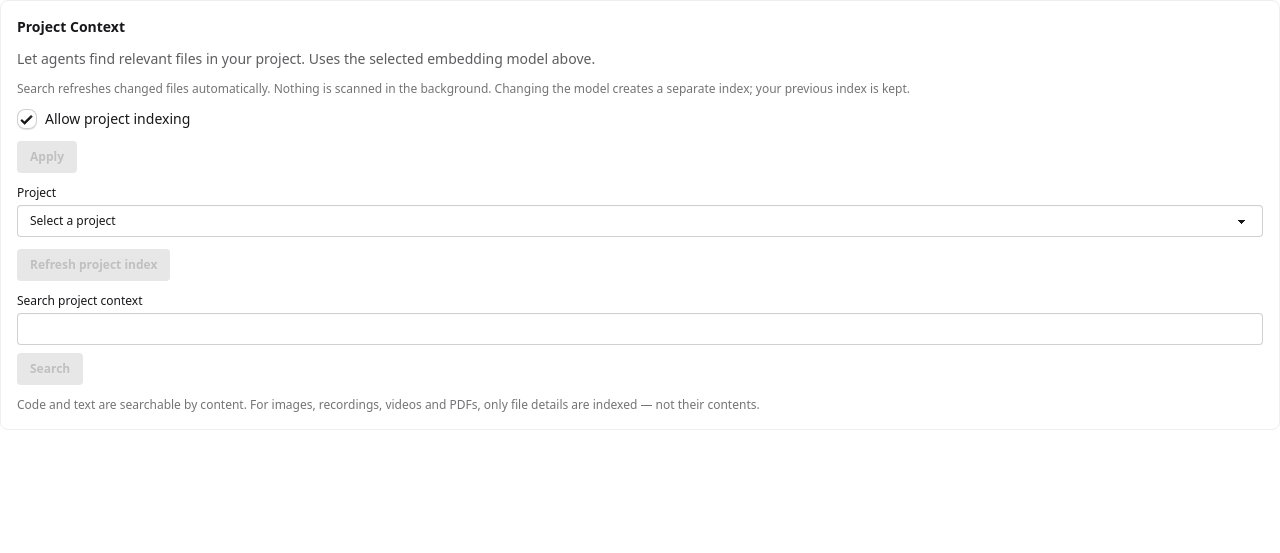
it: ProjectContextCard › allows the first search and displays the index created by backend auto-refresh
This screenshot has width=1280, height=553.
Expected: the checkbox labelled "Allow project indexing" is enabled, [17,109,37,129]
Select "HomeSite" in the dropdown labelled "Project" at (640, 221), box [17,205,1263,237]
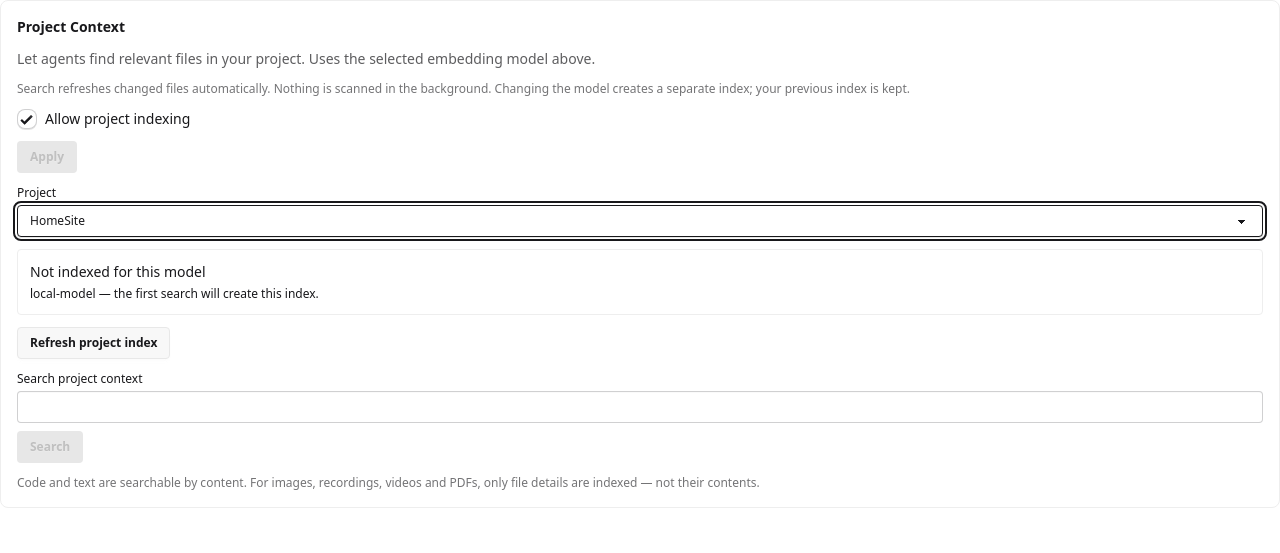
Now the text "Not indexed for this model" is shown, box [30,262,206,281]
Type "contact" into the field labelled "Search project context" at (640, 407), box [17,391,1263,423]
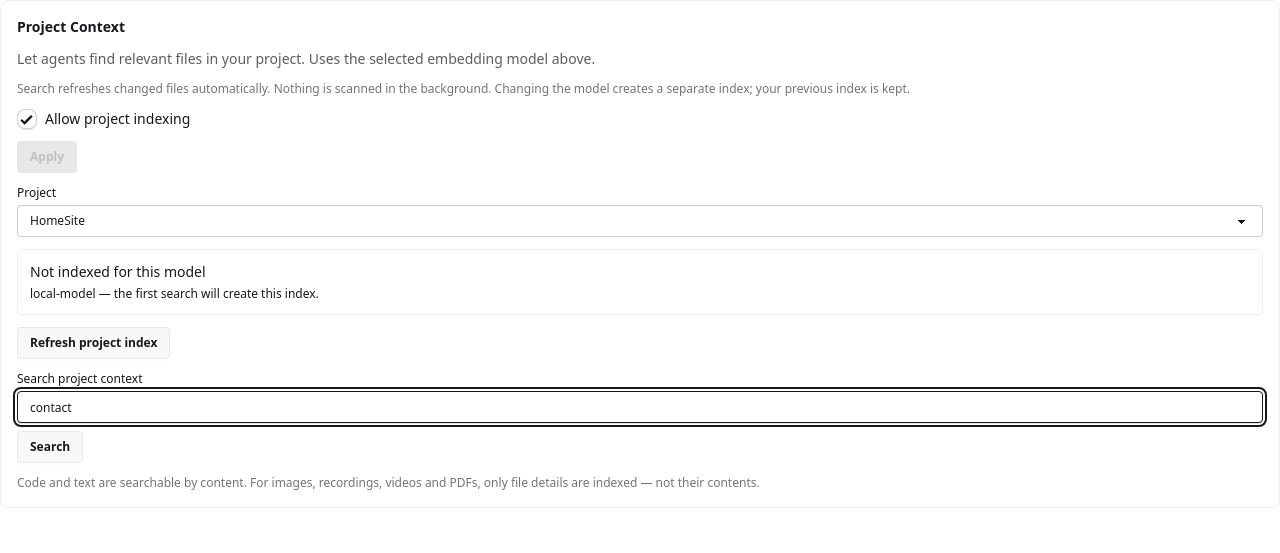
Now the button "Search" is enabled
Click the button "Search" at (50, 447), box [17,431,83,463]
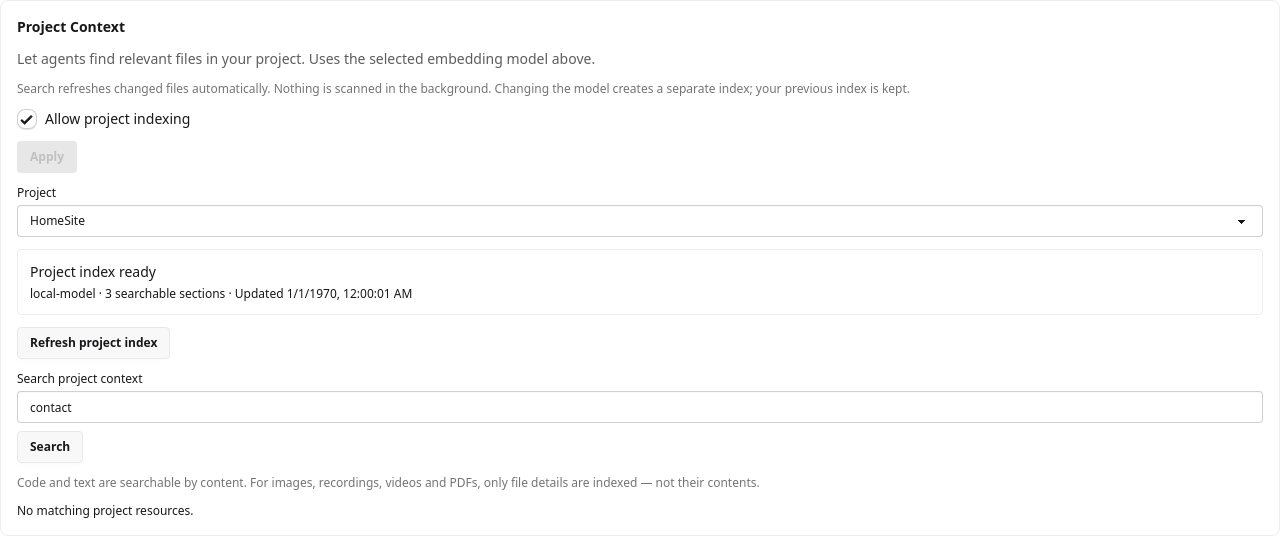
Now the text "Project index ready" is shown, box [30,262,156,281]
Now the text "3 searchable sections" is shown, box [96,285,412,302]
